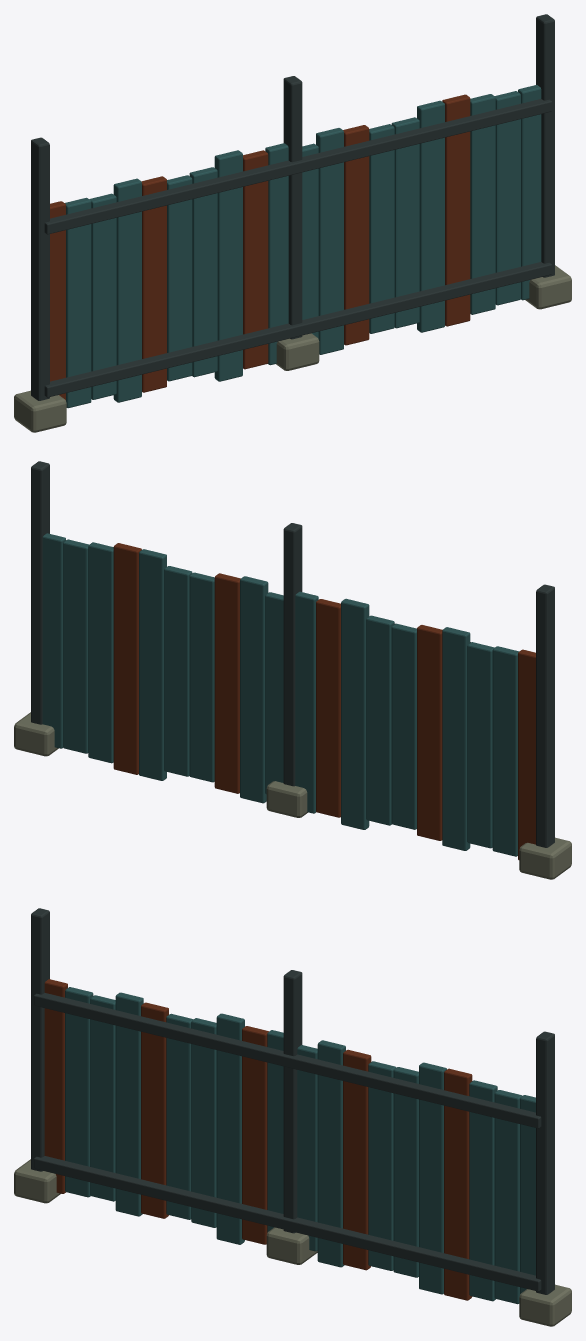
File: fence.glb
3 views of the same model, one above another, from view 1: azimuth 30°, elevation 25°; view 2: azimuth 150°, elevation 25°; view 3: azimuth 330°, elevation 25° (orthographic).
Parts seen in each view (by area): view 1: fence; view 2: fence; view 3: fence.
Boxes of the visible parts, x1=… form: fence: x1=14, y1=14, x2=571, y2=432; fence: x1=14, y1=461, x2=571, y2=879; fence: x1=14, y1=908, x2=571, y2=1326.
Bounding box in the file's own units: 6.42 × 3.22 × 0.42.
